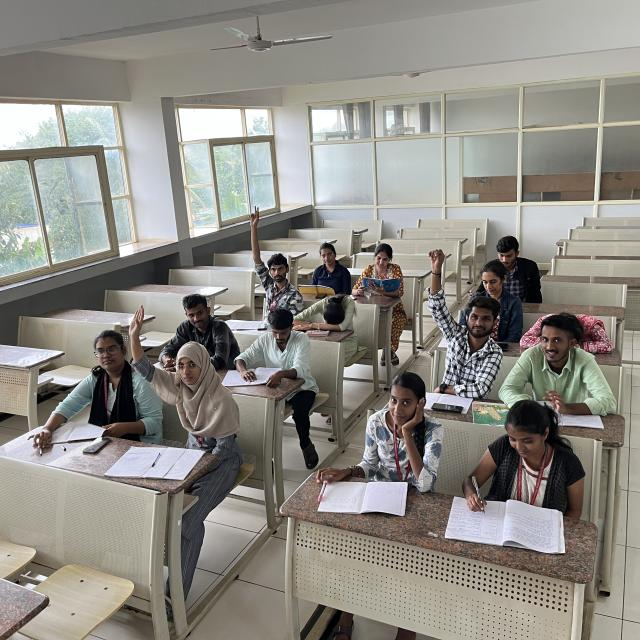Hand Rising: (125, 302, 224, 432), (417, 242, 490, 388), (227, 206, 306, 315)
Reading: (438, 269, 516, 358), (226, 318, 316, 392), (351, 234, 418, 317), (290, 236, 352, 303)
Sleeping: (521, 308, 621, 356), (300, 279, 370, 343)
Using Phone: (153, 293, 237, 373)
Writing: (456, 404, 580, 540)
